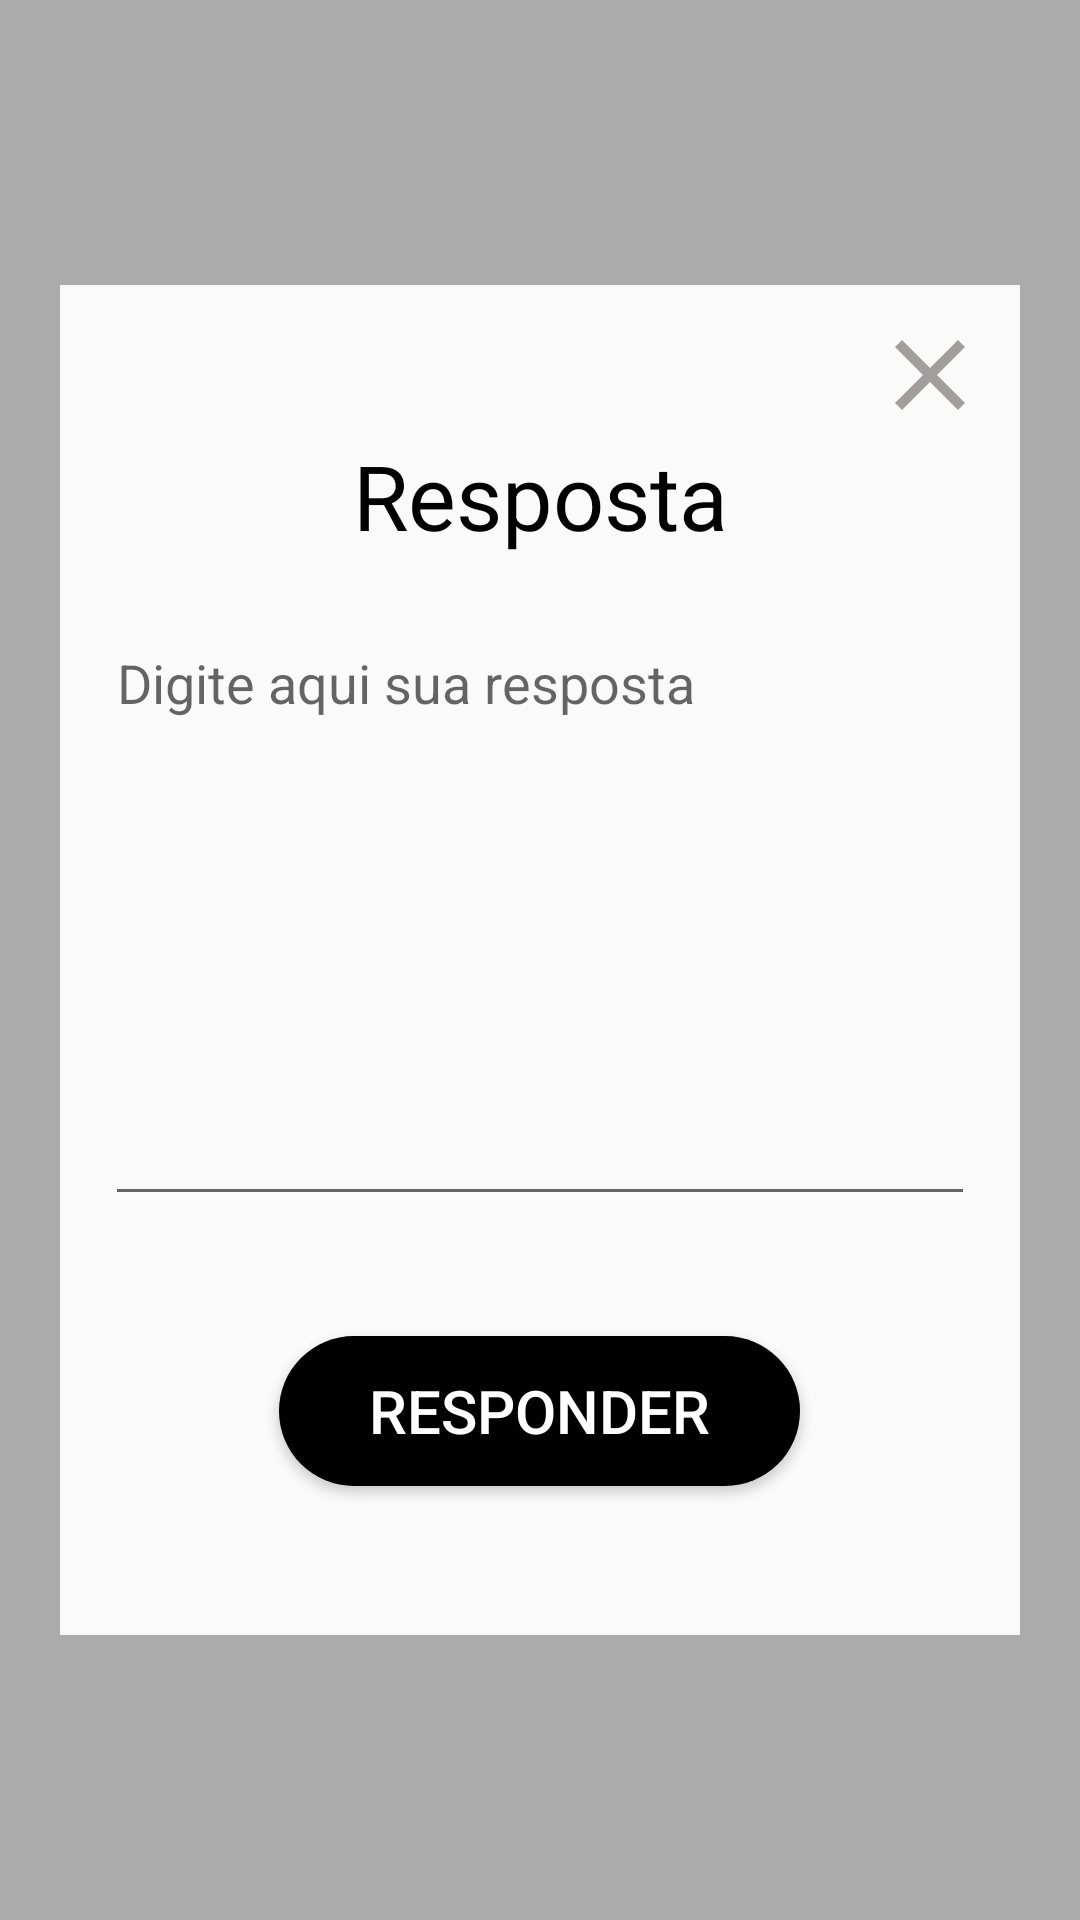

Icon click points for this 1080×1920 phone screenshot, format [x,y]:
close: [930,375]
